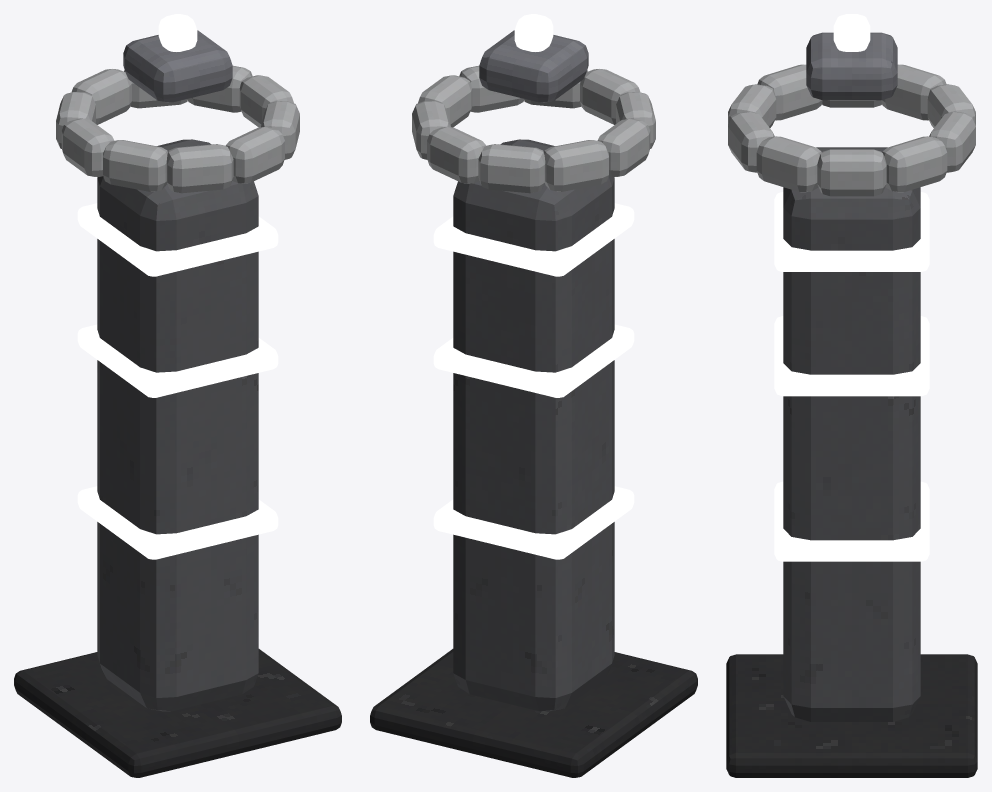
File: decor_bridge_astrogation_pillar.glb
3 renders of one model, left to right at view 1: azimuth 30°, elevation 25°; view 2: azimuth 150°, elevation 25°; view 3: azimuth 270°, elevation 25°, orthographic. The views are drawn at different scales.
Parts seen in each view (by area): view 1: DEC_BridgeAstrogationPillar__Column, DEC_BridgeAstrogationPillar__Base_Foot, DEC_BridgeAstrogationPillar__Head_Cap, DEC_BridgeAstrogationPillar__Data_Band_120, DEC_BridgeAstrogationPillar__Data_Band_90, DEC_BridgeAstrogationPillar__Data_Band_50, DEC_BridgeAstrogationPillar__Sensor_Ring_8, DEC_BridgeAstrogationPillar__Sensor_Ring_7, DEC_BridgeAstrogationPillar__Sensor_Ring_9, DEC_BridgeAstrogationPillar__Sensor_Ring_6, DEC_BridgeAstrogationPillar__Sensor_Ring_4, DEC_BridgeAstrogationPillar__Sensor_Ring_1 (+5 smaller); view 2: DEC_BridgeAstrogationPillar__Column, DEC_BridgeAstrogationPillar__Base_Foot, DEC_BridgeAstrogationPillar__Head_Cap, DEC_BridgeAstrogationPillar__Data_Band_120, DEC_BridgeAstrogationPillar__Data_Band_90, DEC_BridgeAstrogationPillar__Data_Band_50, DEC_BridgeAstrogationPillar__Sensor_Ring_4, DEC_BridgeAstrogationPillar__Sensor_Ring_5, DEC_BridgeAstrogationPillar__Sensor_Ring_3, DEC_BridgeAstrogationPillar__Sensor_Ring_6, DEC_BridgeAstrogationPillar__Sensor_Ring_8, DEC_BridgeAstrogationPillar__Sensor_Ring_1 (+5 smaller); view 3: DEC_BridgeAstrogationPillar__Column, DEC_BridgeAstrogationPillar__Base_Foot, DEC_BridgeAstrogationPillar__Head_Cap, DEC_BridgeAstrogationPillar__Data_Band_90, DEC_BridgeAstrogationPillar__Data_Band_50, DEC_BridgeAstrogationPillar__Data_Band_120, DEC_BridgeAstrogationPillar__Sensor_Ring_1, DEC_BridgeAstrogationPillar__Sensor_Ring_2, DEC_BridgeAstrogationPillar__Sensor_Ring_10, DEC_BridgeAstrogationPillar__Sensor_Ring_5, DEC_BridgeAstrogationPillar__Sensor_Ring_7, DEC_BridgeAstrogationPillar__Sensor_Ring_3 (+5 smaller).
Part boxes in pixels (x1,y1,x2,y2): DEC_BridgeAstrogationPillar__Column: [97, 139, 258, 711]; DEC_BridgeAstrogationPillar__Base_Foot: [14, 649, 341, 777]; DEC_BridgeAstrogationPillar__Head_Cap: [123, 30, 232, 102]; DEC_BridgeAstrogationPillar__Data_Band_120: [77, 203, 278, 276]; DEC_BridgeAstrogationPillar__Data_Band_90: [77, 324, 278, 397]; DEC_BridgeAstrogationPillar__Data_Band_50: [77, 486, 278, 559]; DEC_BridgeAstrogationPillar__Sensor_Ring_8: [166, 144, 233, 193]; DEC_BridgeAstrogationPillar__Sensor_Ring_7: [103, 140, 167, 191]; DEC_BridgeAstrogationPillar__Sensor_Ring_9: [225, 127, 284, 183]; DEC_BridgeAstrogationPillar__Sensor_Ring_6: [61, 118, 114, 176]; DEC_BridgeAstrogationPillar__Sensor_Ring_4: [71, 69, 131, 124]; DEC_BridgeAstrogationPillar__Sensor_Ring_1: [239, 75, 293, 127]; DEC_BridgeAstrogationPillar__Column: [453, 139, 614, 711]; DEC_BridgeAstrogationPillar__Base_Foot: [370, 649, 697, 777]; DEC_BridgeAstrogationPillar__Head_Cap: [479, 30, 588, 102]; DEC_BridgeAstrogationPillar__Data_Band_120: [433, 203, 634, 276]; DEC_BridgeAstrogationPillar__Data_Band_90: [433, 324, 634, 397]; DEC_BridgeAstrogationPillar__Data_Band_50: [433, 486, 634, 559]; DEC_BridgeAstrogationPillar__Sensor_Ring_4: [478, 144, 545, 193]; DEC_BridgeAstrogationPillar__Sensor_Ring_5: [544, 140, 608, 191]; DEC_BridgeAstrogationPillar__Sensor_Ring_3: [427, 127, 486, 183]; DEC_BridgeAstrogationPillar__Sensor_Ring_6: [597, 118, 650, 176]; DEC_BridgeAstrogationPillar__Sensor_Ring_8: [580, 69, 640, 124]; DEC_BridgeAstrogationPillar__Sensor_Ring_1: [418, 75, 472, 127]; DEC_BridgeAstrogationPillar__Column: [783, 147, 920, 721]; DEC_BridgeAstrogationPillar__Base_Foot: [726, 654, 977, 777]; DEC_BridgeAstrogationPillar__Head_Cap: [806, 32, 897, 100]; DEC_BridgeAstrogationPillar__Data_Band_90: [774, 316, 929, 396]; DEC_BridgeAstrogationPillar__Data_Band_50: [774, 481, 929, 561]; DEC_BridgeAstrogationPillar__Data_Band_120: [774, 192, 929, 271]; DEC_BridgeAstrogationPillar__Sensor_Ring_1: [817, 149, 886, 196]; DEC_BridgeAstrogationPillar__Sensor_Ring_2: [882, 136, 947, 192]; DEC_BridgeAstrogationPillar__Sensor_Ring_10: [756, 136, 821, 192]; DEC_BridgeAstrogationPillar__Sensor_Ring_5: [881, 64, 946, 120]; DEC_BridgeAstrogationPillar__Sensor_Ring_7: [757, 64, 822, 120]; DEC_BridgeAstrogationPillar__Sensor_Ring_3: [929, 111, 975, 172].
Size of the model in its own units: 0.55 by 1.72 by 0.55.
Materials: 5 (4 with a texture image).
